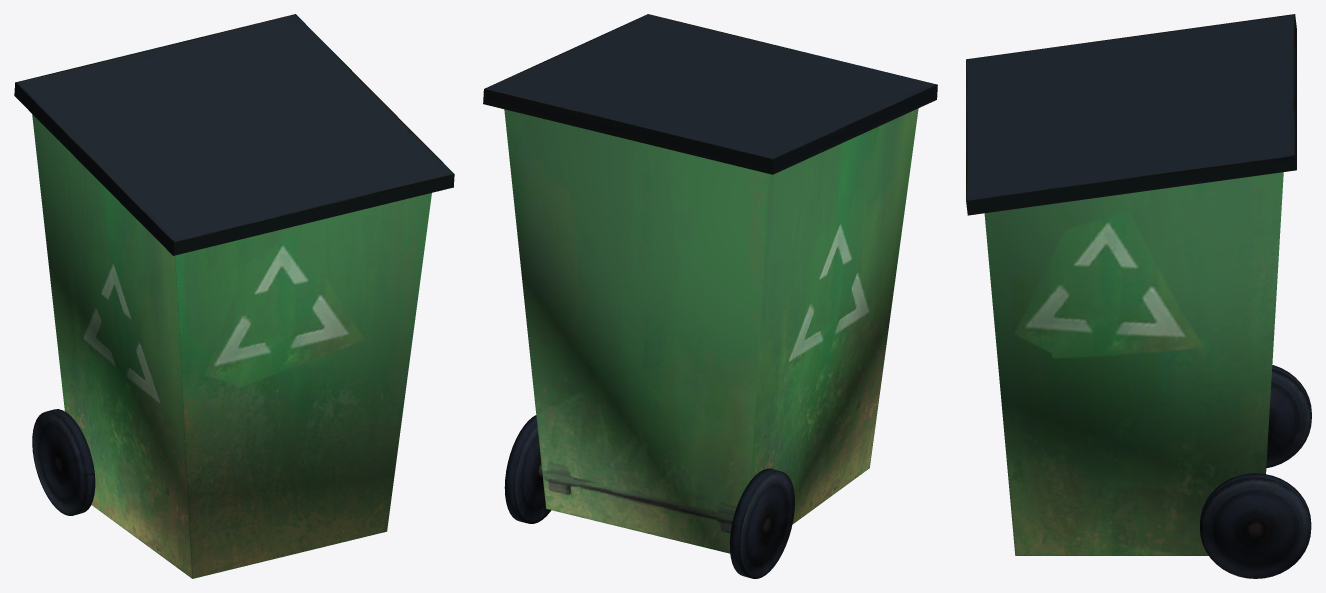
File: dustbin.fbx
3 views of the same model, side by side, from view 1: azimuth 30°, elevation 25°; view 2: azimuth 150°, elevation 25°; view 3: azimuth 270°, elevation 25° (orthographic). The views are drawn at different scales.
Parts seen in each view (by area): view 1: Dusbin, Lid; view 2: Dusbin, Lid; view 3: Dusbin, Lid.
Part boxes in pixels (x1,y1,x2,y2): Dusbin: (32,114,431,578); Lid: (14,14,454,255); Dusbin: (504,108,918,578); Lid: (483,14,937,174); Dusbin: (984,172,1311,578); Lid: (966,14,1296,215).
Size of the model in its own units: 111 by 160 by 115.
Materials: 4 (2 with a texture image).
